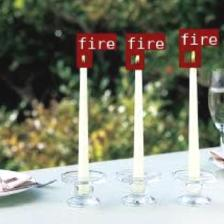fire: (179, 46, 200, 66), (125, 49, 143, 68), (76, 49, 91, 66)
